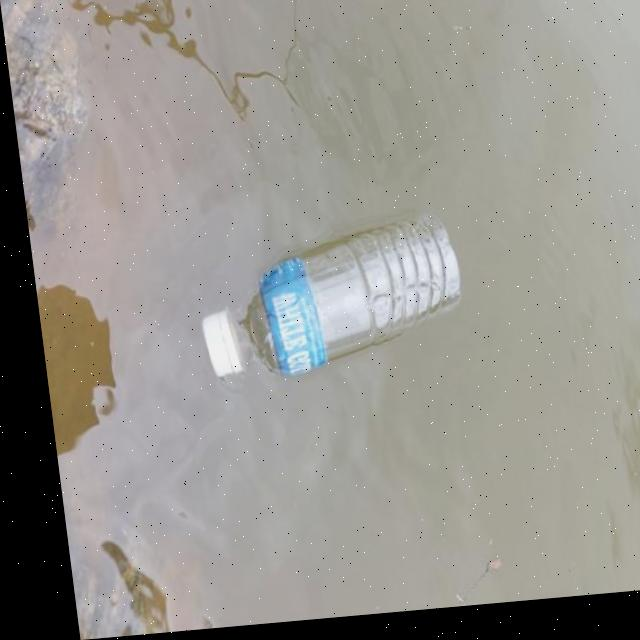waterbottle: (183, 212, 474, 393)
